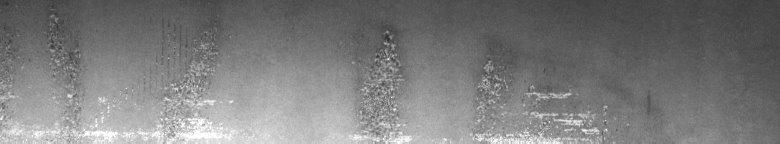hc: (6, 9, 81, 98)
